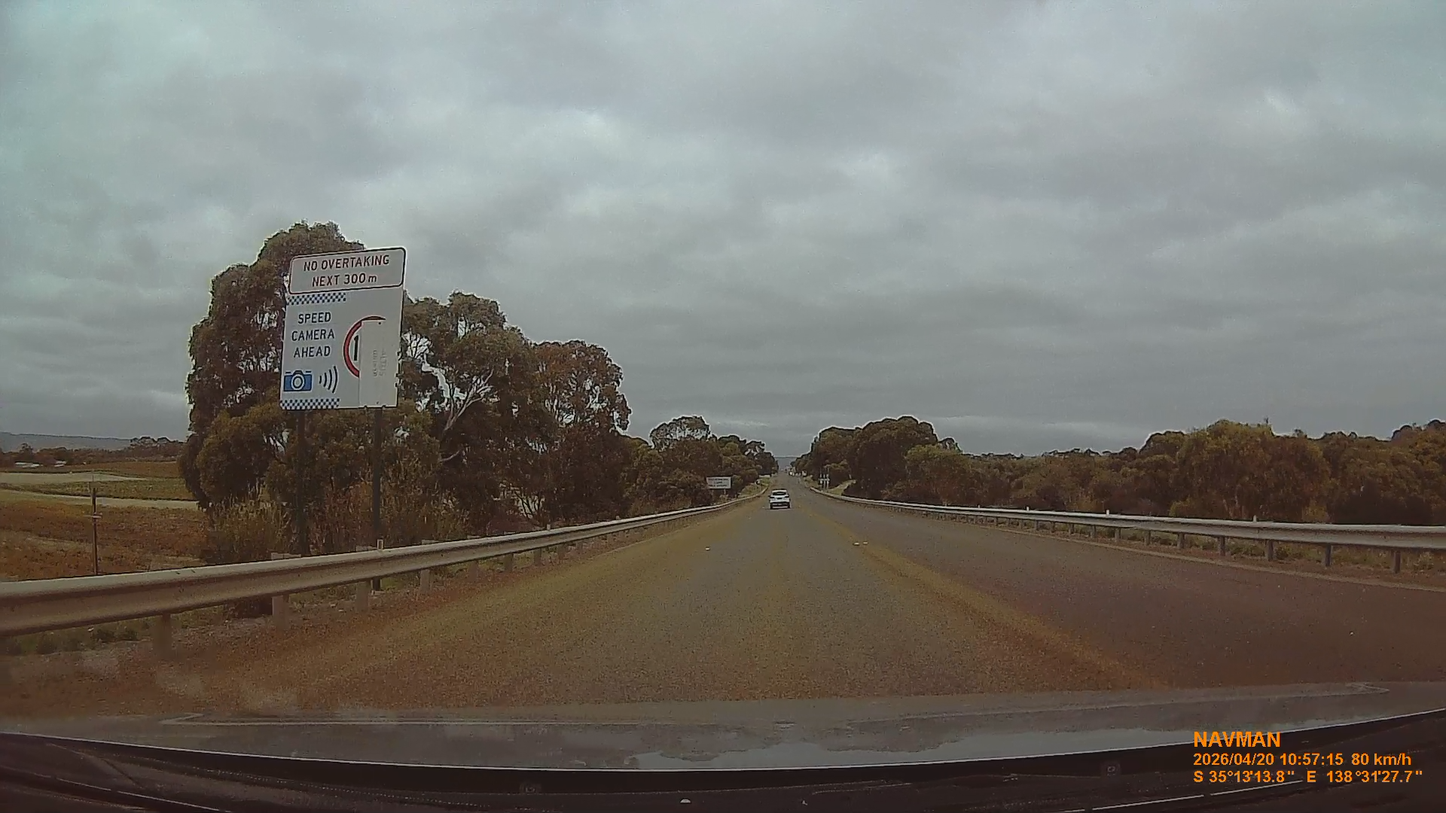road barriers: (0, 508, 721, 649), (838, 499, 1445, 586)
